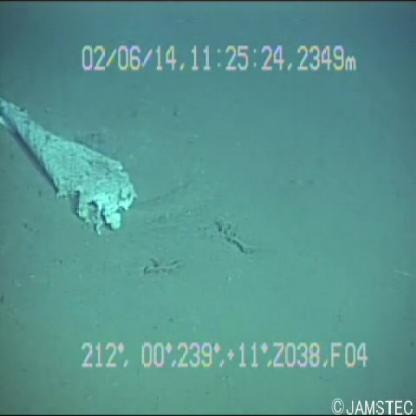Rác: (1, 80, 139, 245)
